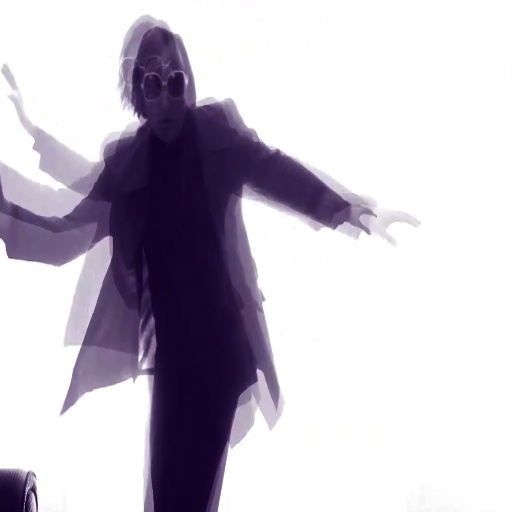hand: (0, 58, 34, 128), (370, 205, 422, 247), (345, 203, 376, 233)
